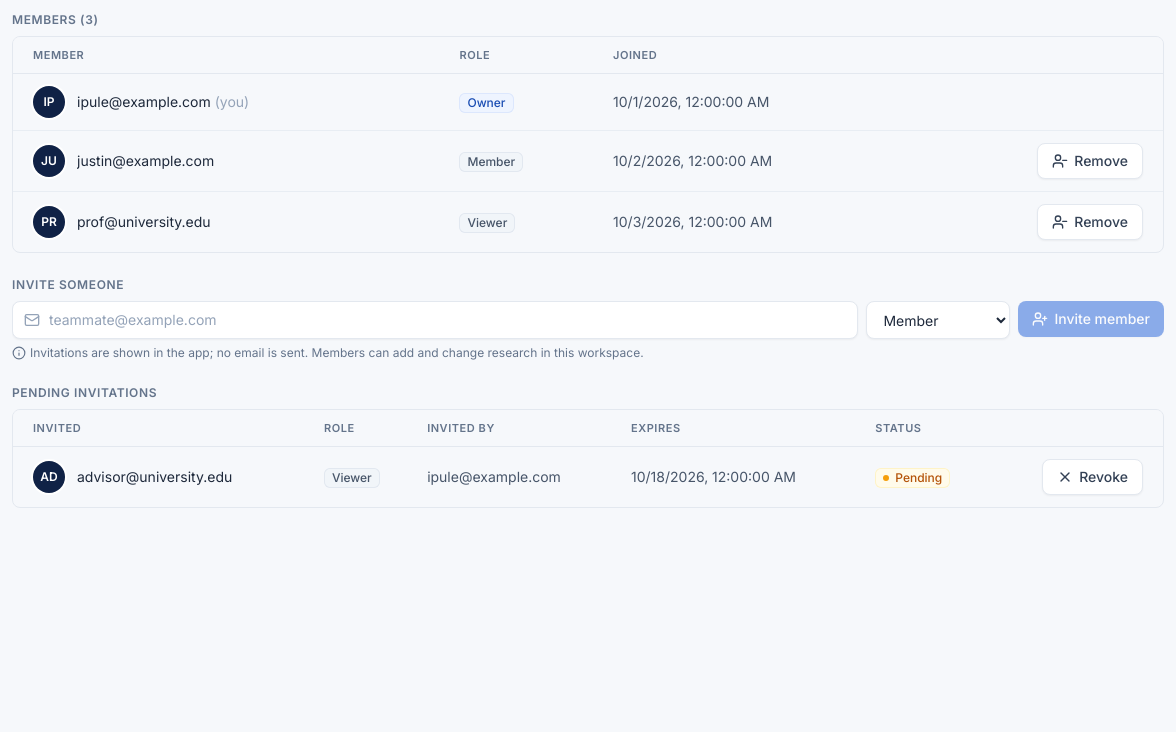
Test: MembersPanel for an owner › shows why a removal failed
Click the button with aria-label "Remove prof@university.edu from the workspace".
click(1090, 222)  # box x1=1037 y1=204 x2=1143 y2=240
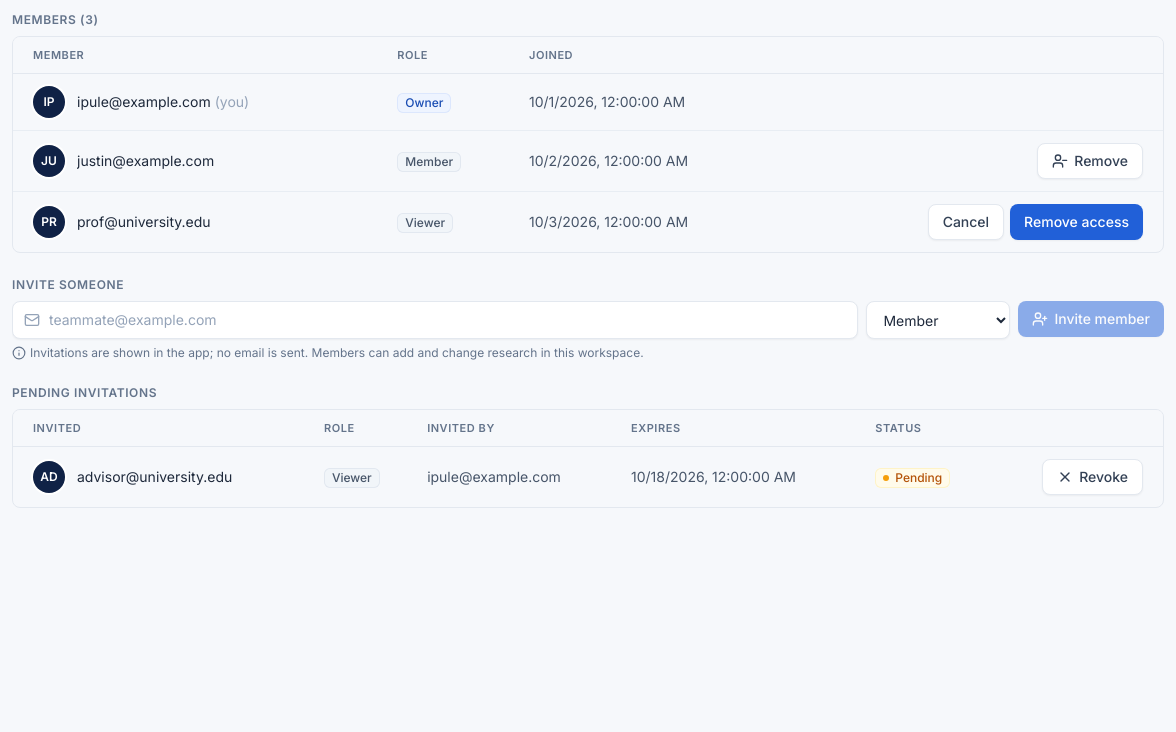
Click the button "Remove access".
click(1077, 222)  # box x1=1010 y1=204 x2=1143 y2=240
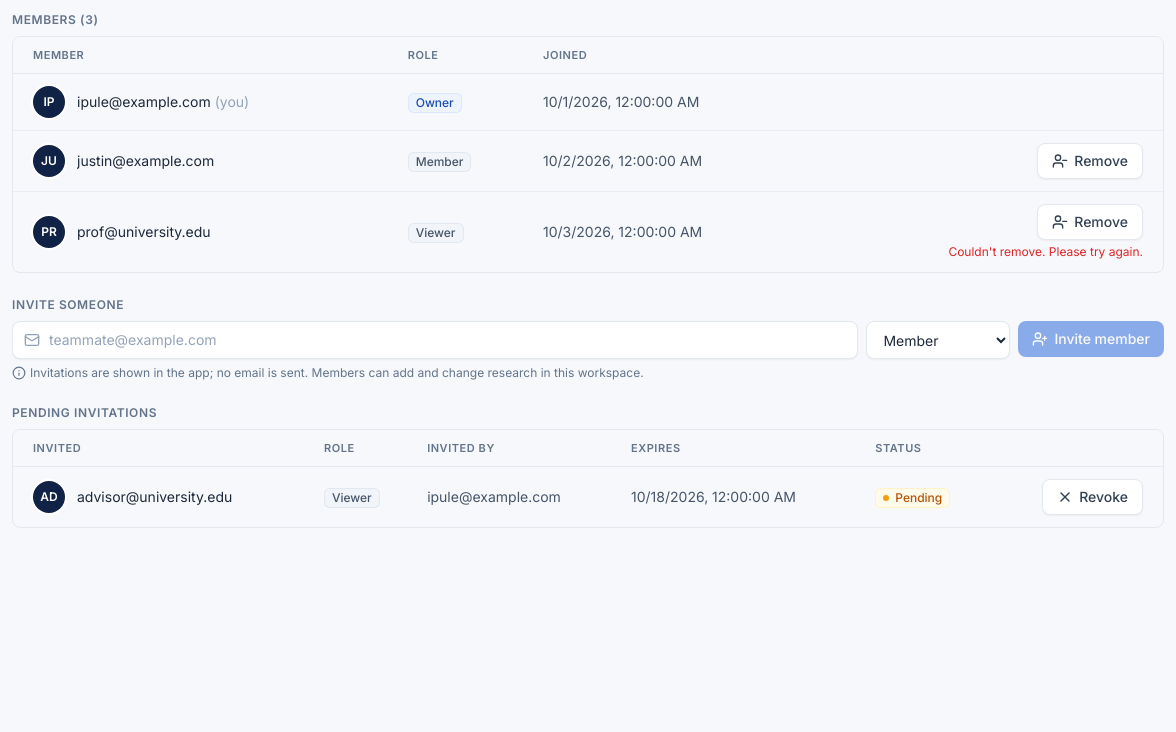
Now the message shows "Couldn't remove", box x1=948 y1=244 x2=1143 y2=259
